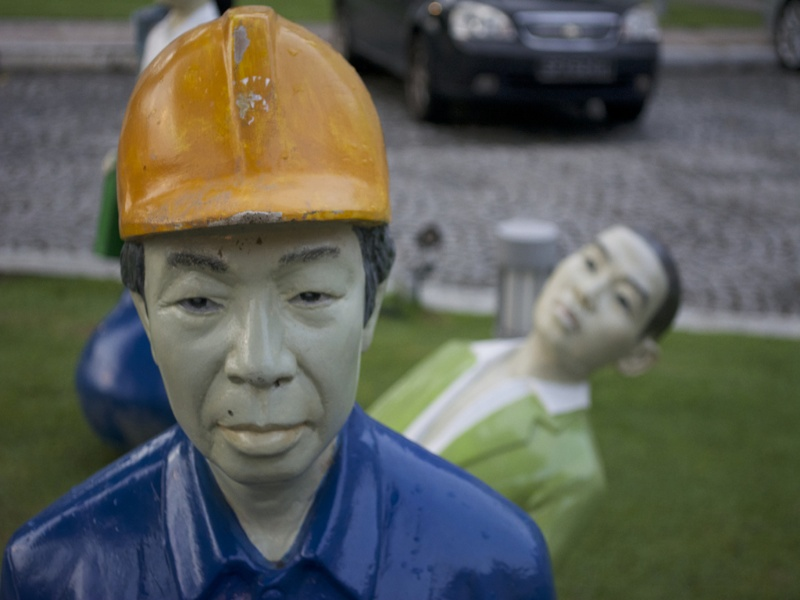Baret: (116, 6, 397, 236)
